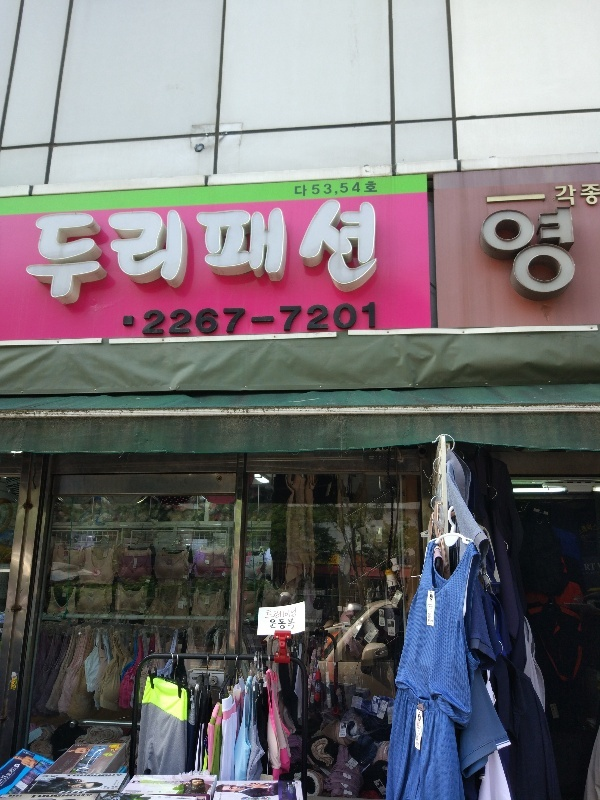text: (49, 196, 64, 316), (65, 196, 80, 316), (81, 196, 96, 316), (97, 196, 112, 316), (113, 196, 128, 316), (129, 196, 144, 316), (145, 196, 160, 316), (161, 196, 176, 316), (177, 196, 192, 316), (193, 196, 208, 316), (209, 196, 224, 316), (225, 196, 240, 316), (241, 196, 256, 316), (257, 196, 272, 316), (273, 196, 288, 316), (289, 196, 304, 316), (305, 196, 320, 316), (321, 196, 336, 316), (337, 196, 352, 316), (353, 196, 368, 316), (35, 196, 48, 316), (481, 204, 496, 304), (497, 204, 512, 304), (513, 204, 528, 304), (529, 204, 544, 304), (545, 204, 560, 304), (561, 204, 576, 304), (369, 196, 379, 316), (289, 301, 304, 334), (305, 301, 320, 334), (321, 301, 336, 334), (337, 301, 352, 334), (353, 301, 368, 334), (129, 307, 144, 337), (145, 307, 160, 337), (161, 307, 176, 337), (177, 307, 192, 337), (193, 307, 208, 337), (209, 307, 224, 337), (225, 307, 240, 337), (577, 204, 581, 304), (417, 724, 432, 750), (561, 183, 576, 208), (577, 183, 592, 208), (305, 180, 320, 200), (321, 180, 336, 200), (337, 180, 352, 200), (353, 180, 368, 200), (477, 204, 480, 304), (241, 307, 250, 337), (578, 519, 592, 538), (280, 301, 288, 334), (1, 772, 16, 788), (369, 301, 376, 334), (294, 180, 304, 200), (369, 180, 378, 200), (273, 618, 288, 630), (593, 183, 600, 208), (273, 608, 288, 619), (1, 774, 16, 785), (54, 758, 64, 774), (257, 316, 272, 326), (65, 758, 74, 774), (593, 519, 600, 538), (281, 782, 288, 800), (555, 183, 560, 208), (584, 561, 592, 576), (5, 767, 16, 777), (593, 561, 600, 576), (125, 307, 128, 337), (113, 780, 128, 786), (289, 608, 297, 619), (341, 730, 352, 737), (33, 794, 48, 799), (49, 794, 64, 799), (65, 794, 80, 799), (289, 618, 295, 630), (266, 608, 272, 619), (81, 794, 94, 799), (12, 676, 16, 691), (24, 750, 32, 757), (129, 790, 143, 794), (251, 316, 256, 326), (81, 774, 96, 777), (97, 774, 112, 777), (66, 774, 80, 777), (269, 618, 272, 630), (113, 774, 124, 777), (273, 783, 275, 796), (221, 793, 224, 800), (273, 316, 275, 326), (17, 767, 19, 777), (17, 676, 18, 691), (271, 783, 272, 796), (126, 790, 128, 794), (31, 794, 32, 799)
